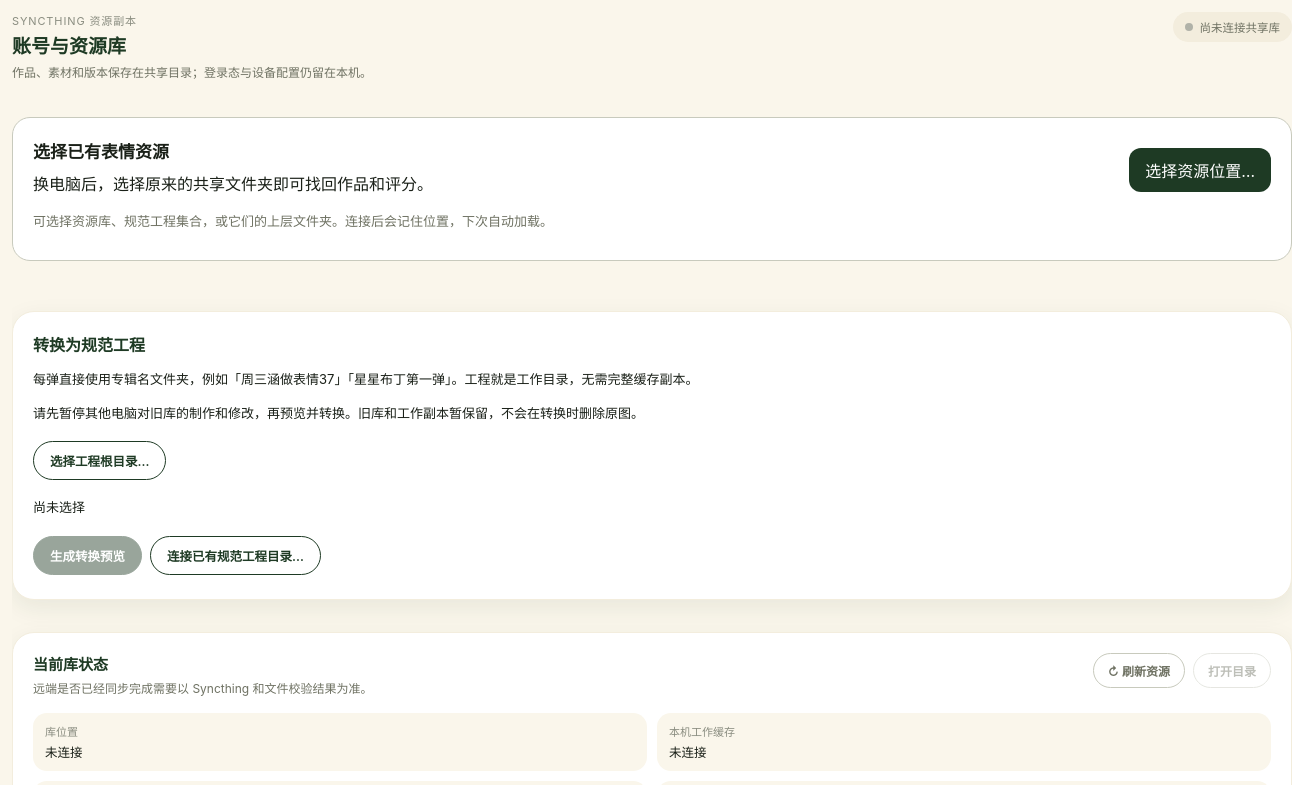
Test: 账号与资源库面板 › 刷新按钮使用库刷新命令而不是把失联误当成空库
The width and height of the screenshot is (1292, 785).
Click the button with test id "refresh-library": click(1139, 670) [1093,653,1185,688]
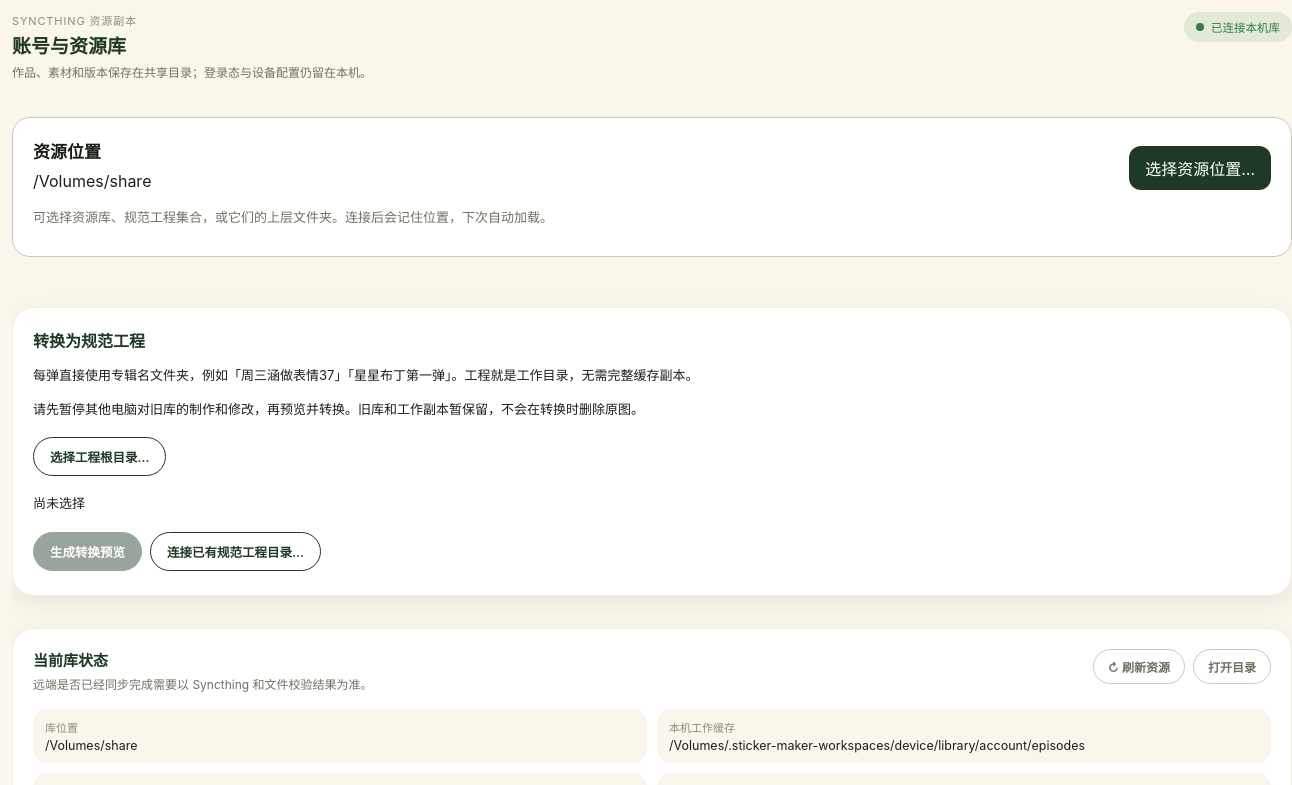
Now the text with test id "library-root" reads "/Volumes/share", box [45,738,138,753]
Now the text with test id "workspace-path" shows ".sticker-maker-workspaces", box [669,738,1085,753]
